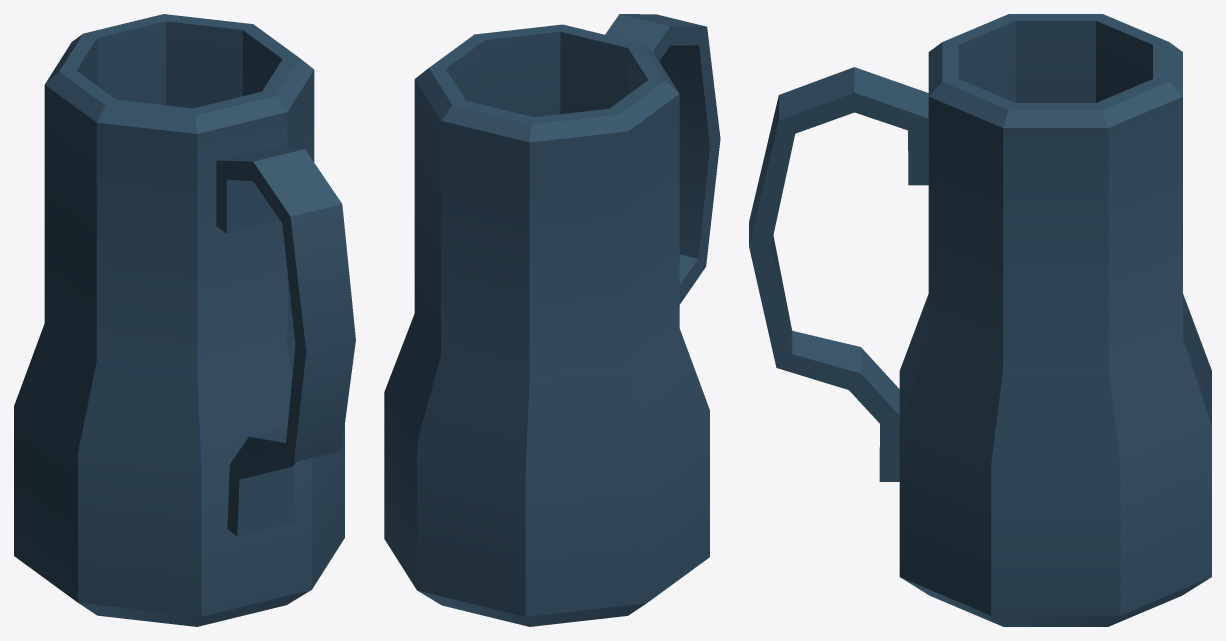
Rendered from EA_Items_House_mug_01b.glb.
3 views of the same model, side by side, from view 1: azimuth 30°, elevation 25°; view 2: azimuth 150°, elevation 25°; view 3: azimuth 270°, elevation 25° (orthographic). The views are drawn at different scales.
Parts seen in each view (by area): view 1: EA_Items_House_mug_01b; view 2: EA_Items_House_mug_01b; view 3: EA_Items_House_mug_01b.
Boxes of the visible parts, <box> form: EA_Items_House_mug_01b: <box>14,14,355,626</box>; EA_Items_House_mug_01b: <box>384,14,720,626</box>; EA_Items_House_mug_01b: <box>749,14,1211,626</box>.
Size of the model in its own units: 0.1694 by 0.3062 by 0.2511.
Materials: 1 (1 with a texture image).
